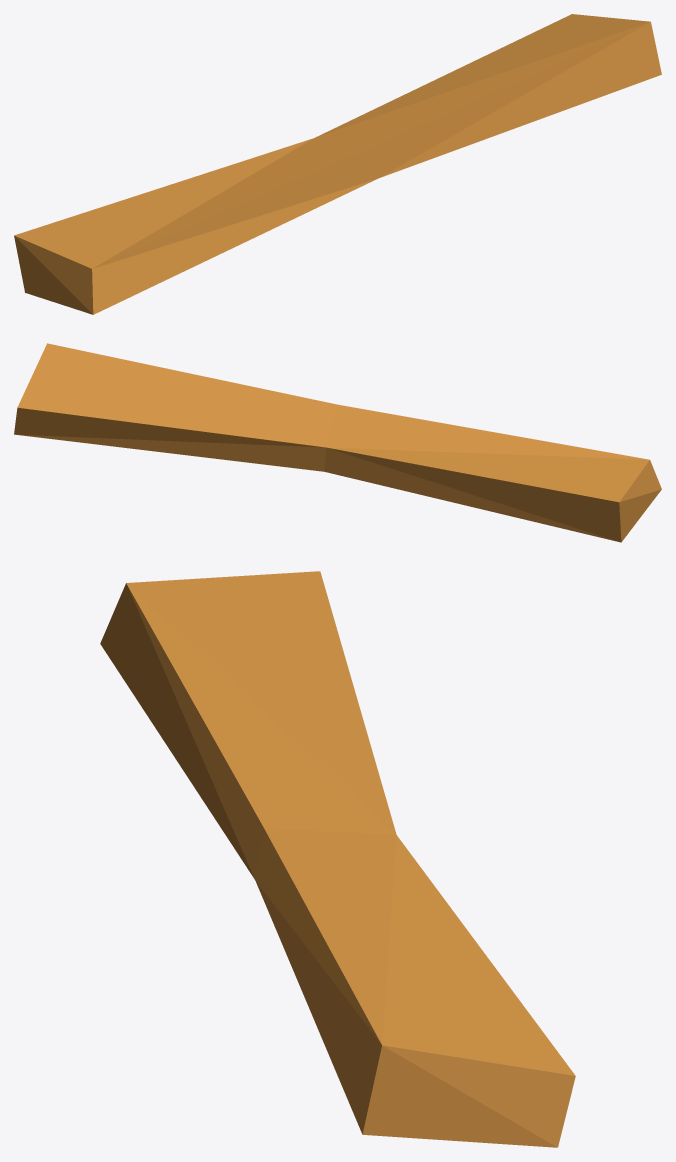
Rendered from bench.dae.
The picture shows the model from 3 angles, top to bottom: view 1: azimuth 30°, elevation 25°; view 2: azimuth 150°, elevation 25°; view 3: azimuth 270°, elevation 25°; orthographic projection. The views are drawn at different scales.
Parts seen in each view (by area): view 1: mesh_1447054442; view 2: mesh_1447054442; view 3: mesh_1447054442.
Boxes of the visible parts, bbox=[...] form: mesh_1447054442: bbox=[14, 14, 661, 314]; mesh_1447054442: bbox=[14, 343, 661, 542]; mesh_1447054442: bbox=[100, 571, 575, 1147].
Size of the model in its own units: 90.86 by 12.37 by 33.35.
